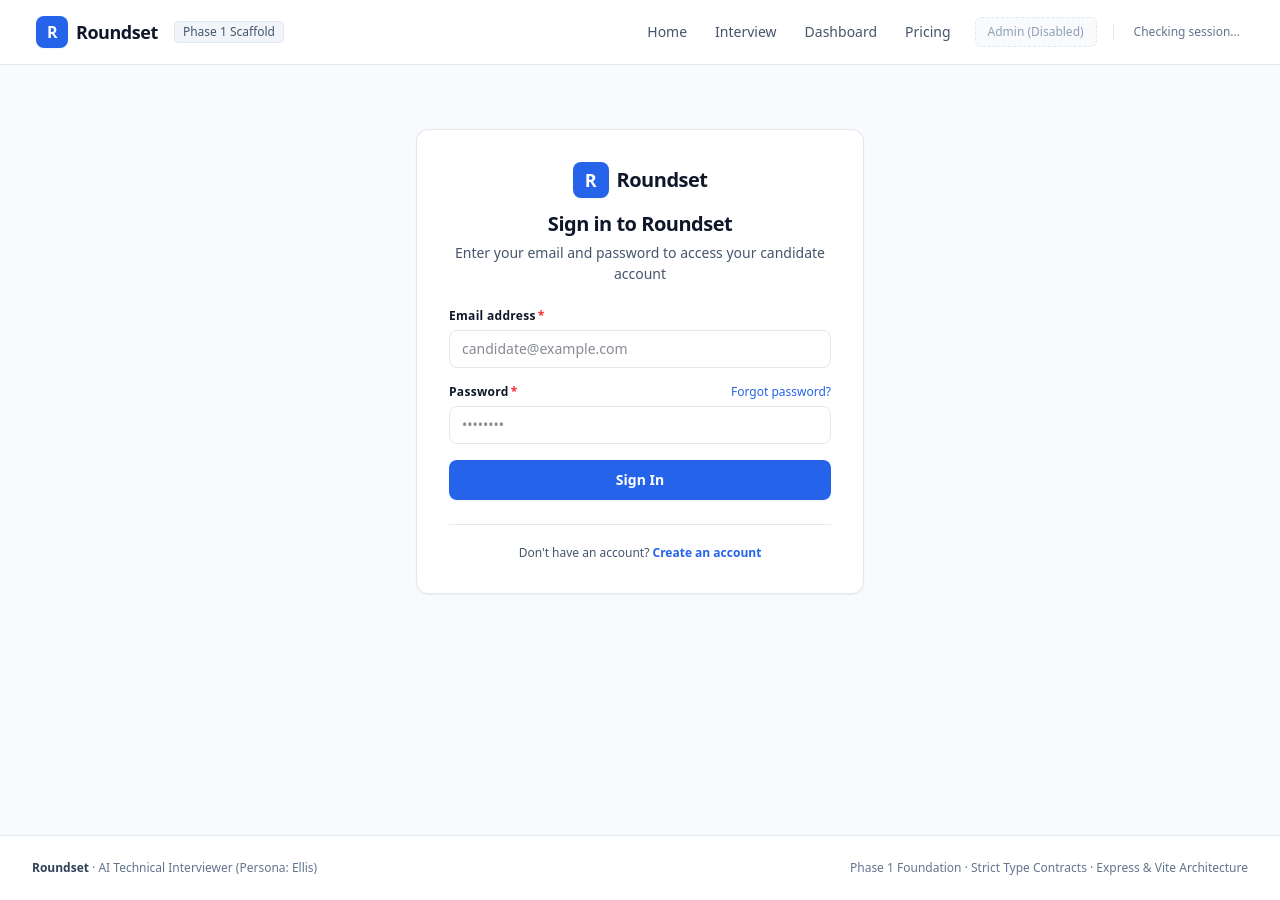
Test: Auth Pages and Flows (P2-FE-01) › Client-Side Validation and Error Handling › validates required email and password on login submit
Click the button "Sign In" at (640, 480), box [449, 460, 831, 500]
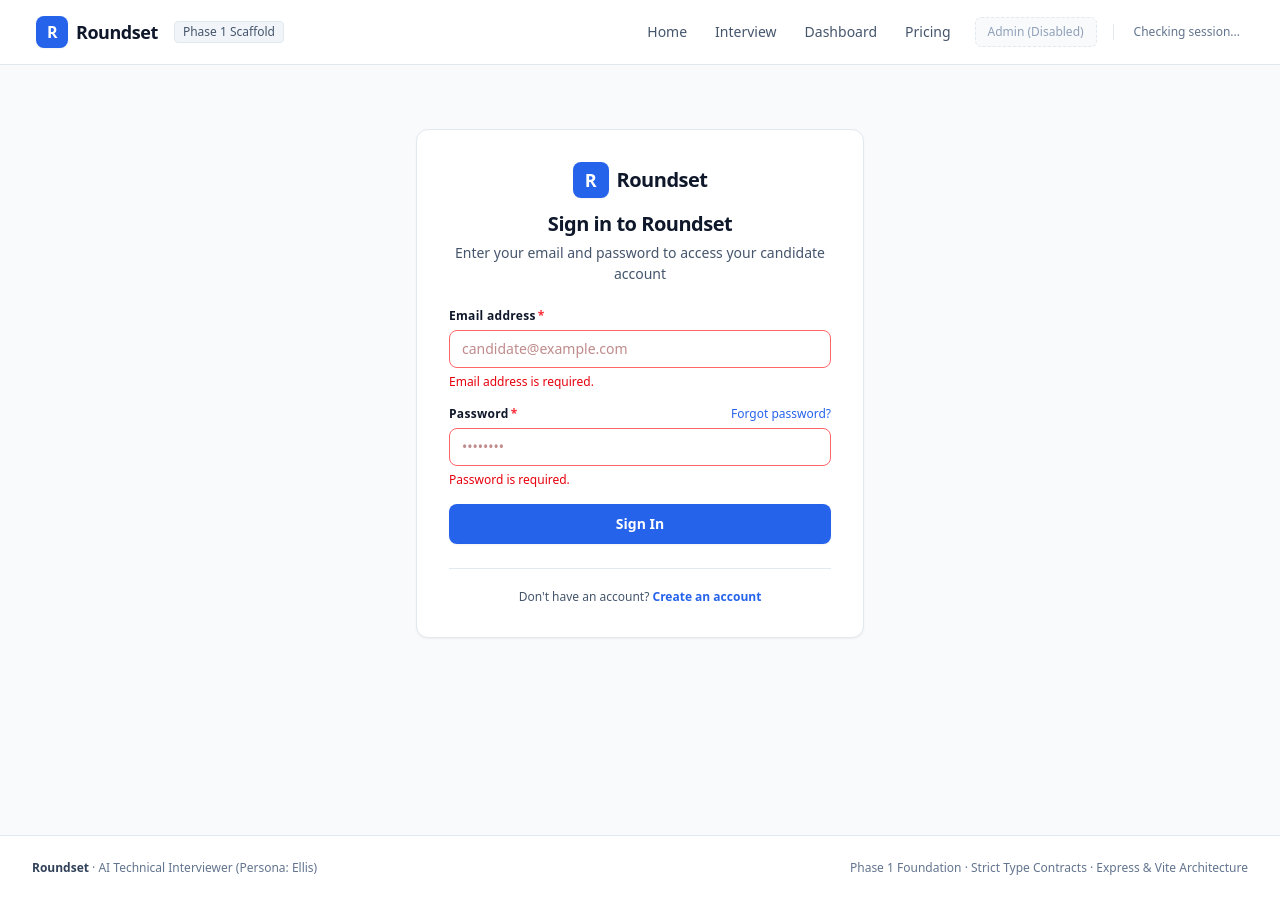
Expected: the text "Email address is required." is shown, [449, 373, 594, 390]
Expected: the text "Password is required." is shown, [449, 471, 570, 488]
Enter invalid email format
Type "not-an-email" into the field labelled "Email address*" at (640, 349), box [449, 330, 831, 368]
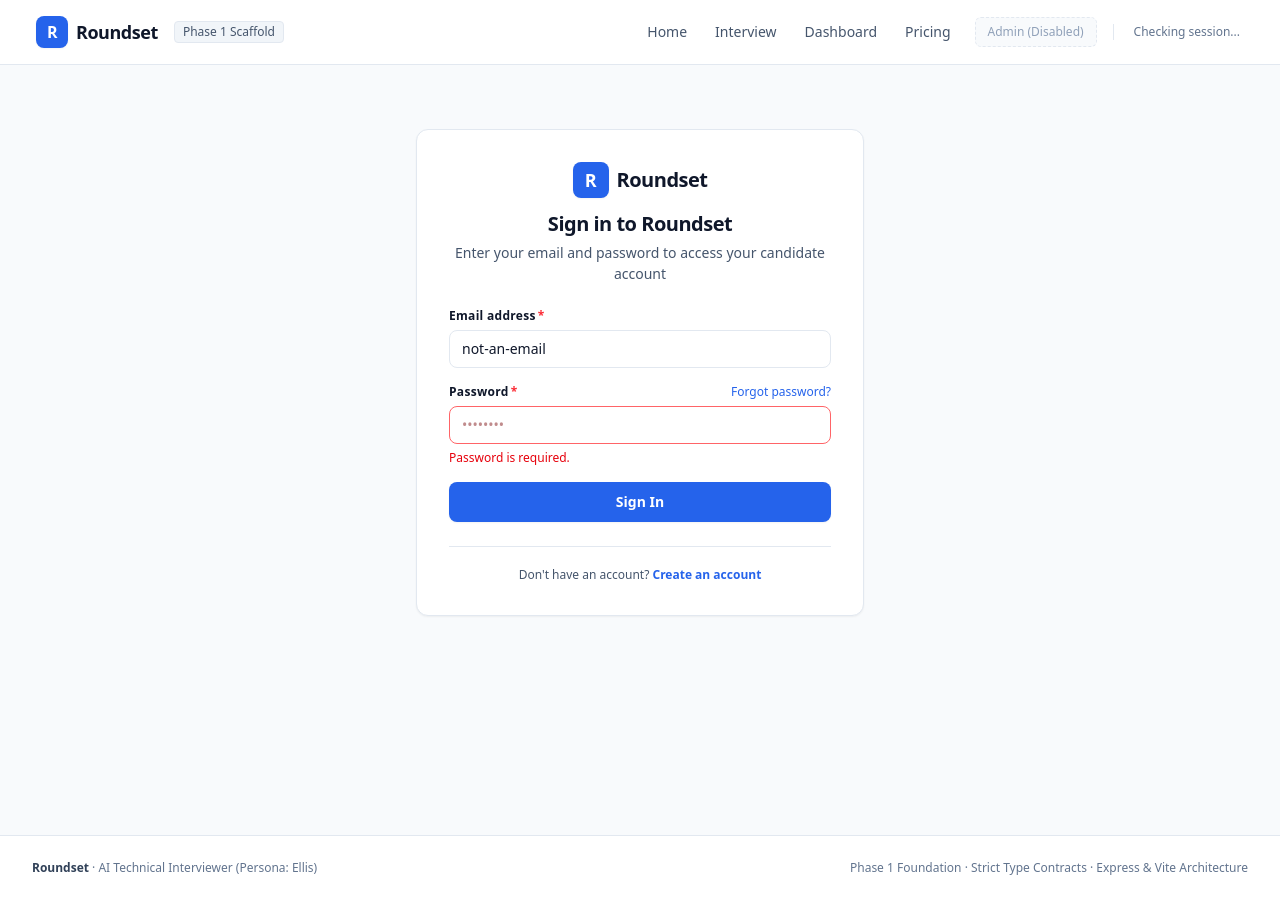
Click the button "Sign In" at (640, 502), box [449, 482, 831, 522]
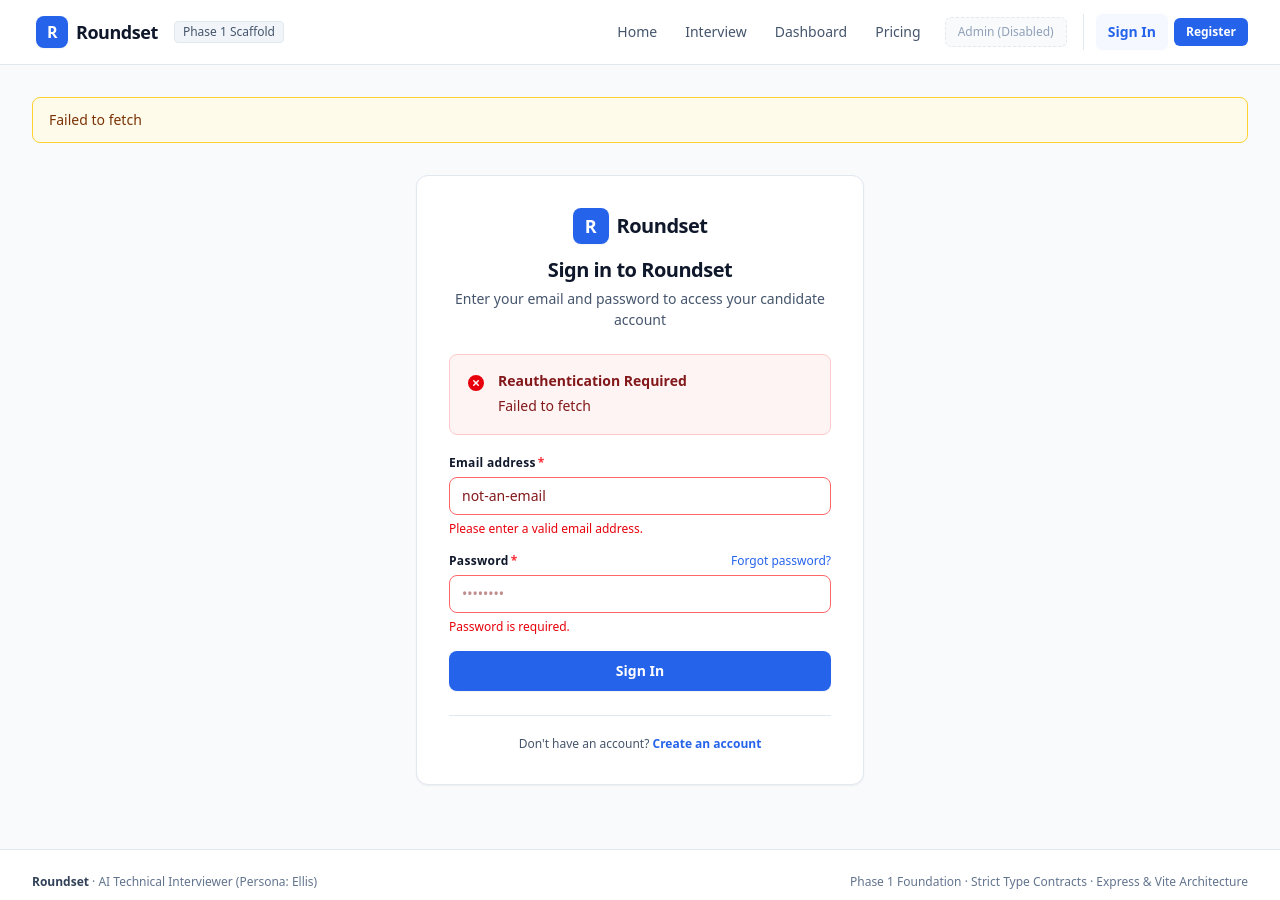
Expected: the text "Please enter a valid email address." is shown, [449, 520, 643, 537]
